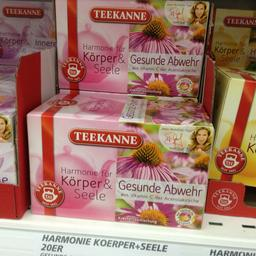tea: (22, 92, 212, 228), (53, 0, 208, 95)
